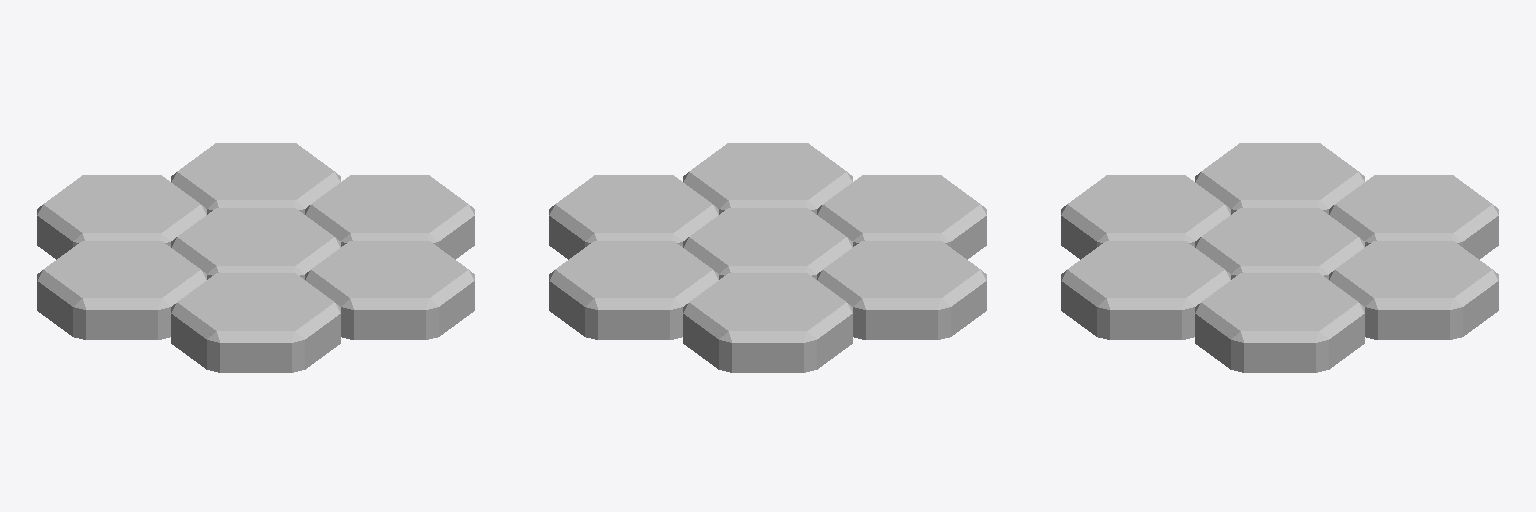
The model's file is plat_med.obj.
3 renders of one model, left to right at view 1: azimuth 30°, elevation 25°; view 2: azimuth 150°, elevation 25°; view 3: azimuth 270°, elevation 25°, orthographic.
Parts seen in each view (by area): view 1: Cylinder.014; view 2: Cylinder.014; view 3: Cylinder.014.
Part boxes in pixels (x1,y1,x2,y2): Cylinder.014: (37, 143, 474, 372); Cylinder.014: (549, 143, 986, 372); Cylinder.014: (1061, 143, 1498, 372).
Size of the model in its own units: 1.1 by 0.1 by 1.04.